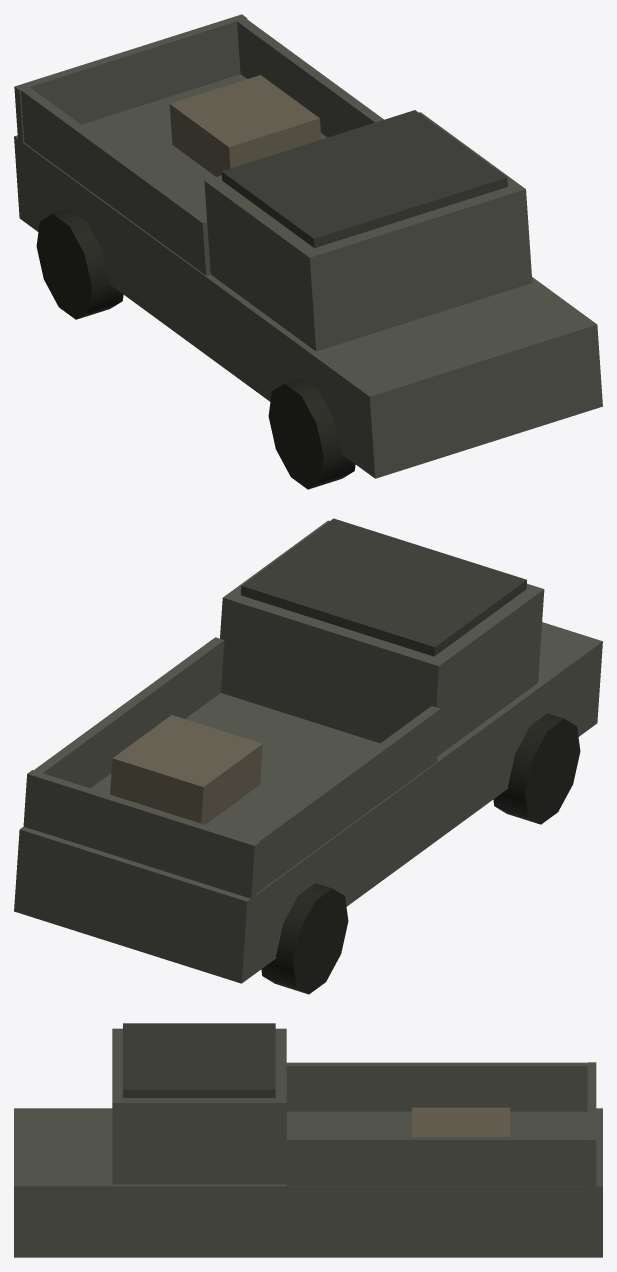
File: pickup.glb
3 renders of one model, top to bottom at view 1: azimuth 30°, elevation 25°; view 2: azimuth 150°, elevation 25°; view 3: azimuth 270°, elevation 25°, orthographic. The views are drawn at different scales.
Parts seen in each view (by area): view 1: pickup; view 2: pickup; view 3: pickup.
Part boxes in pixels (x1,y1,x2,y2): pickup: [14, 14, 602, 489]; pickup: [14, 518, 602, 994]; pickup: [14, 1023, 602, 1257].
Bounding box in the file's own units: 2.17 × 2.1 × 5.4.
